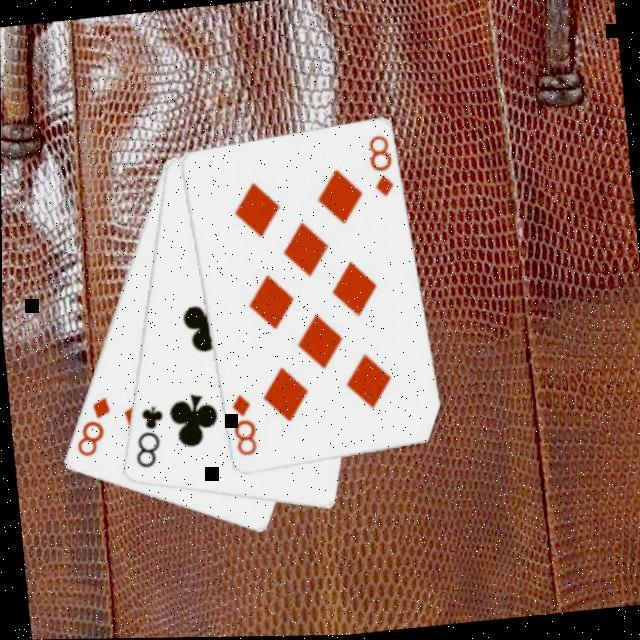8C: (128, 400, 172, 472)
8D: (68, 391, 117, 461), (227, 389, 261, 459), (364, 131, 398, 201)
